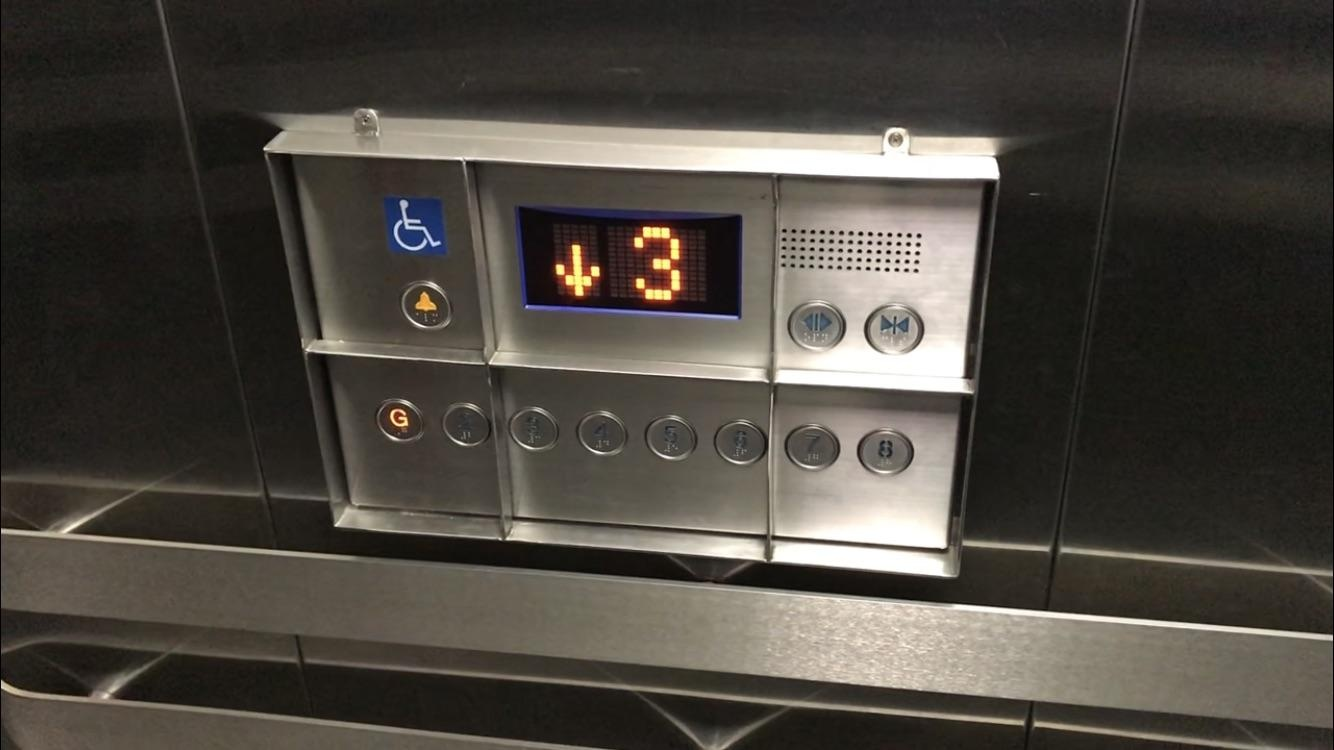2: (440, 401, 492, 448)
3: (507, 405, 560, 454)
4: (576, 410, 628, 459)
5: (644, 414, 698, 463)
6: (713, 418, 769, 467)
7: (782, 422, 841, 472)
8: (856, 426, 916, 477)
CH: (383, 193, 448, 256)
G: (373, 394, 427, 446)
alarm: (398, 279, 454, 334)
close: (862, 299, 925, 357)
led: (511, 200, 745, 323)
open: (785, 298, 848, 354)
